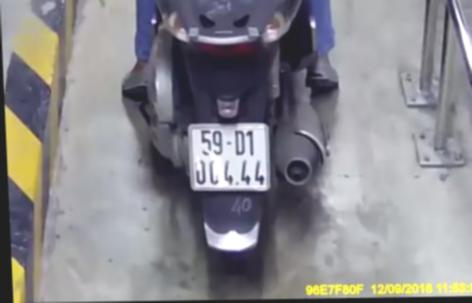License_Plate: (179, 119, 274, 198)
